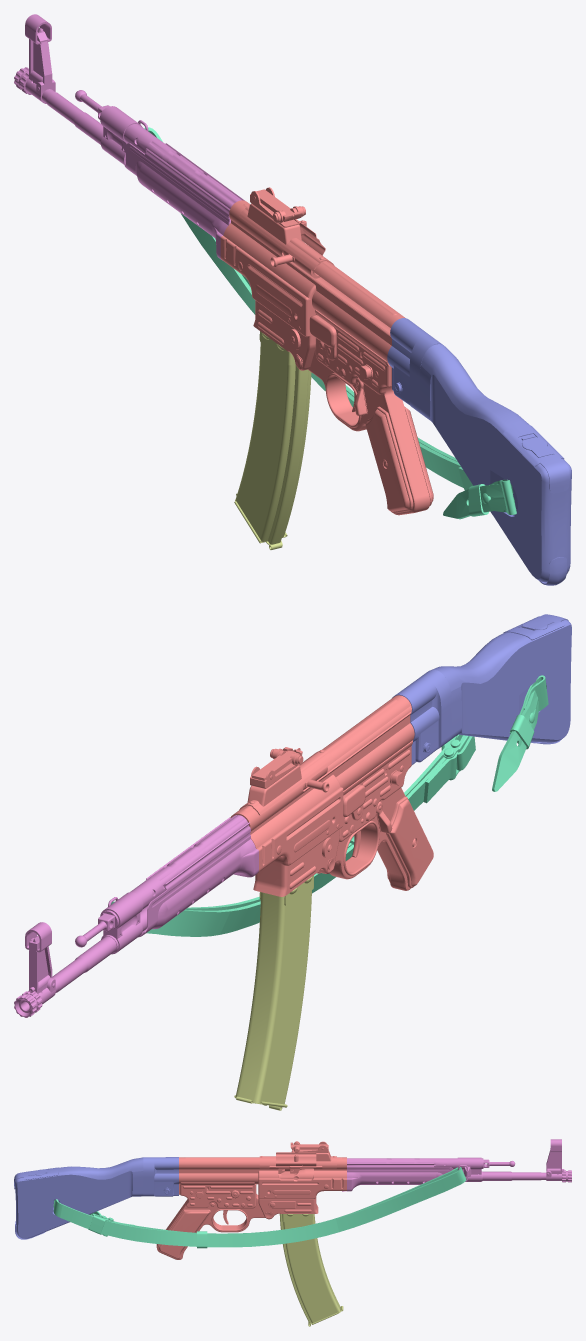
Rendered from STG44_Full.fbx.
3 views of the same model, one above another, from view 1: azimuth 30°, elevation 25°; view 2: azimuth 150°, elevation 25°; view 3: azimuth 270°, elevation 25° (orthographic). The views are drawn at different scales.
Visible parts, largest first — view 1: Body_Recievers, Stock, Barrel, Magazine, Belt; view 2: Body_Recievers, Stock, Barrel, Magazine, Belt; view 3: Body_Recievers, Stock, Belt, Barrel, Magazine, Body_Bolt.
Boxes of the visible parts, x1,y1,x2,y2 form: Body_Recievers: [220, 187, 433, 515]; Stock: [387, 318, 571, 585]; Barrel: [14, 14, 244, 260]; Magazine: [234, 331, 311, 549]; Belt: [144, 127, 516, 519]; Body_Recievers: [230, 695, 433, 896]; Stock: [392, 614, 571, 765]; Barrel: [14, 815, 258, 1017]; Magazine: [234, 875, 313, 1110]; Belt: [111, 675, 548, 936]; Body_Recievers: [156, 1141, 346, 1259]; Stock: [14, 1157, 178, 1239]; Belt: [53, 1167, 466, 1248]; Barrel: [342, 1139, 571, 1191]; Magazine: [279, 1214, 343, 1326]; Body_Bolt: [278, 1169, 313, 1179].
Bounding box in the file's own units: 6.46 × 34.07 × 92.92.
